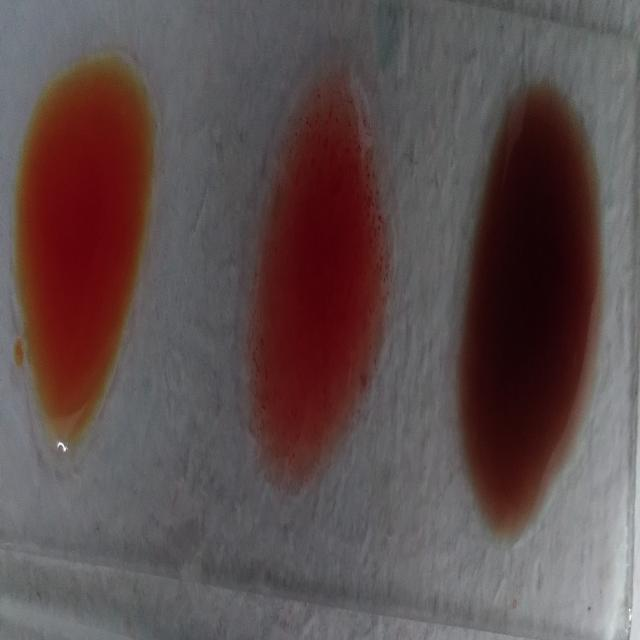D: (245, 72, 392, 494)
